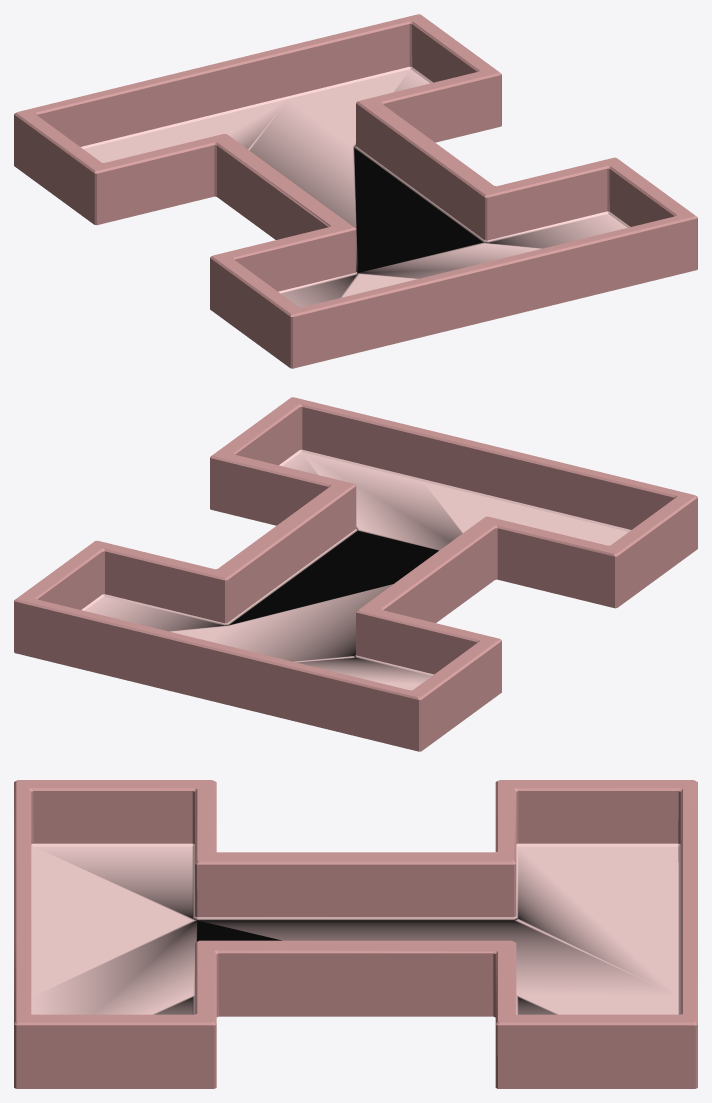
3 renders of one model, top to bottom at view 1: azimuth 30°, elevation 25°; view 2: azimuth 150°, elevation 25°; view 3: azimuth 270°, elevation 25°, orthographic. The views are drawn at different scales.
Visible parts, largest first — view 1: Table_I.001, Table_I.002, Table_I.008, Table_I.005, Table_I.010, Table_I.011, Table_I.004, Table_I.006, Table_I.012, Table_I.013, Table_I.009, Table_I.007 (+1 smaller); view 2: Table_I.001, Table_I.008, Table_I.002, Table_I.005, Table_I.012, Table_I.011, Table_I.006, Table_I.004, Table_I.010, Table_I.013, Table_I.009, Table_I.003 (+1 smaller); view 3: Table_I.001, Table_I.011, Table_I.005, Table_I.003, Table_I.007, Table_I.013, Table_I.009, Table_I.008, Table_I.002, Table_I.012, Table_I.010, Table_I.004 (+1 smaller).
Part boxes in pixels (x1,y1,x2,y2): Table_I.001: (83,69,626,307); Table_I.002: (293,216,697,368); Table_I.008: (18,14,419,148); Table_I.005: (354,101,496,243); Table_I.010: (94,134,222,225); Table_I.011: (214,134,353,239); Table_I.004: (487,157,616,242); Table_I.006: (353,71,501,147); Table_I.012: (214,225,359,293); Table_I.013: (210,255,300,368); Table_I.009: (14,112,101,224); Table_I.007: (411,14,501,125); Table_I.001: (85,452,628,690); Table_I.008: (14,598,418,751); Table_I.002: (295,397,693,531); Table_I.005: (218,483,359,624); Table_I.012: (486,516,614,608); Table_I.011: (353,516,494,657); Table_I.006: (98,541,228,626); Table_I.004: (210,453,350,525); Table_I.010: (356,610,501,676); Table_I.013: (608,495,697,608); Table_I.009: (411,639,501,751); Table_I.003: (213,397,302,465); Table_I.001: (33,846,678,1014); Table_I.011: (197,851,518,920); Table_I.005: (192,940,511,1017); Table_I.003: (14,950,494,1088); Table_I.007: (495,1014,695,1088); Table_I.013: (14,780,214,846); Table_I.009: (500,780,696,846); Table_I.008: (678,781,697,1088); Table_I.002: (14,781,33,1023); Table_I.012: (192,781,216,920); Table_I.010: (495,780,518,917); Table_I.004: (192,942,216,1088).
Size of the model in its own units: 1261 by 157 by 1491.
